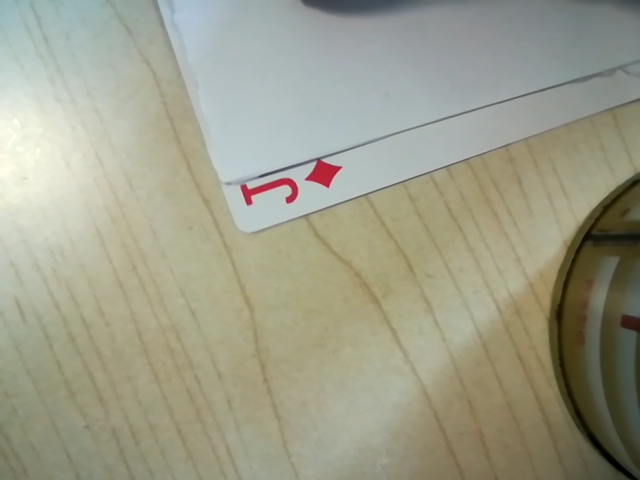fk j: (233, 159, 335, 214)
